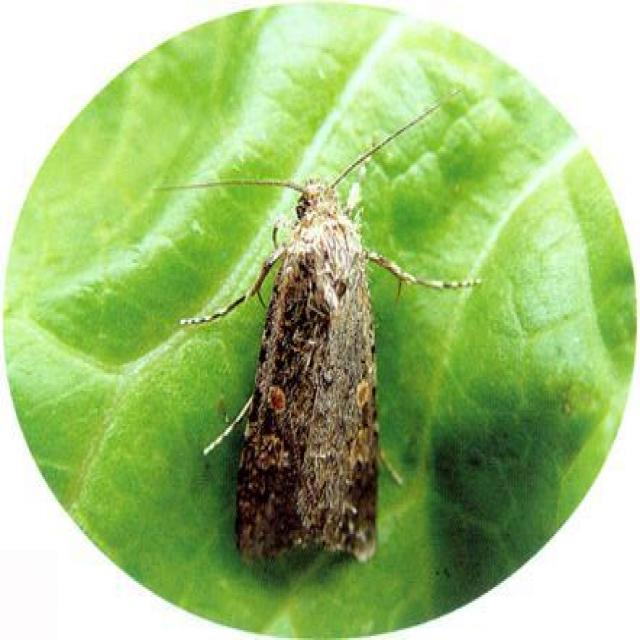BeetArmyWorm-Adult-: (165, 89, 484, 577)
